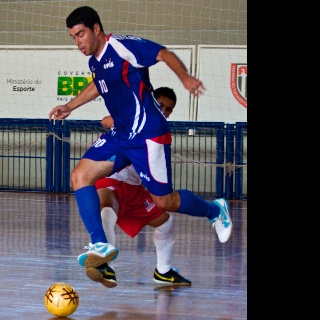without_mask: (66, 5, 104, 55)
